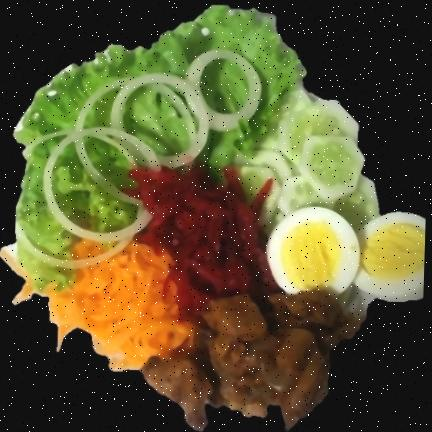beet: (140, 164, 288, 315)
carrot: (2, 235, 195, 369)
cucumber: (233, 87, 383, 229)
egg: (270, 206, 426, 302)
meat: (140, 291, 364, 428)
salad: (12, 8, 302, 295)
